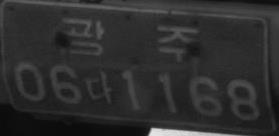0: (13, 60, 46, 103)
1: (150, 71, 182, 113), (115, 69, 145, 111)
6: (187, 74, 224, 118), (48, 62, 82, 104)
8: (225, 77, 261, 121)
광주_D: (58, 15, 203, 62)
다: (83, 69, 114, 105)
